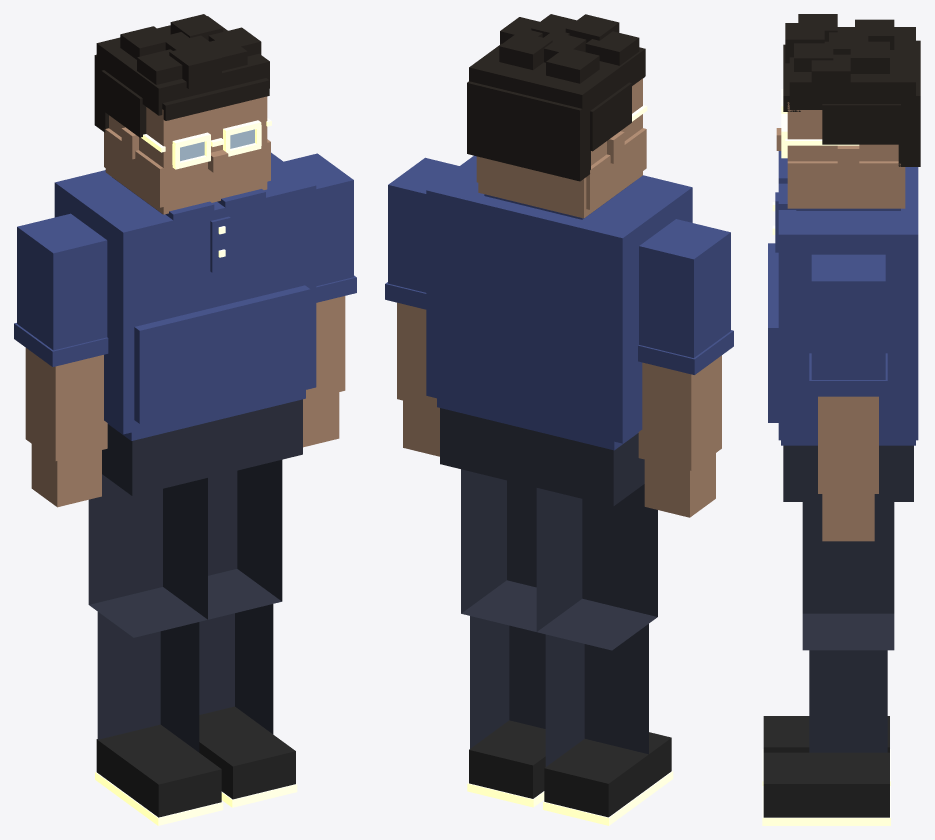
File: avatar.glb
The picture shows the model from 3 angles, left to right: view 1: azimuth 30°, elevation 25°; view 2: azimuth 150°, elevation 25°; view 3: azimuth 270°, elevation 25°; orthographic projection.
Parts seen in each view (by area): view 1: torso, head, thighR, hips, uarmR, shinR, farmR, thighL, footR, shinL, footL, uarmL (+1 smaller); view 2: torso, head, thighR, hips, uarmR, shinR, farmR, thighL, footR, shinL, uarmL, footL (+1 smaller); view 3: head, torso, thighL, uarmL, footL, farmL, shinL, hips, footR.
Part boxes in pixels (box(x1,y1,x2,y2)): torso: box(54, 152, 316, 434); head: box(94, 14, 271, 214); thighR: box(88, 474, 207, 637); hips: box(102, 390, 305, 495); uarmR: box(14, 213, 108, 366); shinR: box(97, 612, 199, 752); farmR: box(25, 348, 107, 507); thighL: box(208, 460, 282, 619); footR: box(95, 724, 223, 825); shinL: box(199, 604, 273, 733); footL: box(199, 706, 297, 807); uarmL: box(284, 153, 356, 302); torso: box(426, 155, 692, 443); head: box(467, 14, 647, 218); thighR: box(536, 484, 657, 650); hips: box(437, 398, 644, 506); uarmR: box(638, 219, 733, 374); shinR: box(545, 624, 648, 766); farmR: box(638, 355, 721, 517); thighL: box(461, 469, 536, 631); footR: box(543, 732, 673, 825); shinL: box(470, 616, 545, 748); uarmL: box(385, 157, 459, 309); footL: box(467, 720, 545, 807); head: box(776, 14, 920, 208); torso: box(768, 151, 918, 440); thighL: box(802, 502, 894, 650); uarmL: box(809, 254, 887, 396); footL: box(762, 752, 890, 825); farmL: box(818, 396, 878, 541); shinL: box(809, 650, 887, 752); hips: box(781, 440, 915, 501); footR: box(762, 716, 890, 785).
Bounding box in the file's own units: 0.82 × 1.91 × 0.3625.
